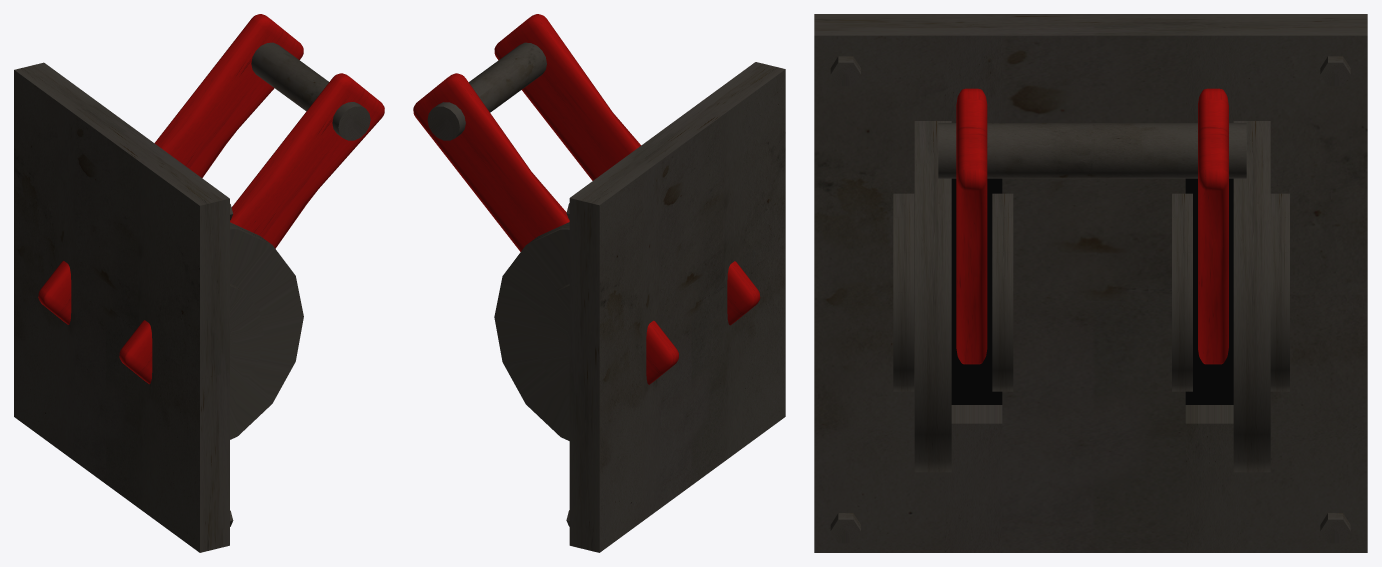
The model's file is lever_imported.FBX.
3 views of the same model, side by side, from view 1: azimuth 30°, elevation 25°; view 2: azimuth 150°, elevation 25°; view 3: azimuth 270°, elevation 25° (orthographic). The views are drawn at different scales.
Parts seen in each view (by area): view 1: Box002, ChamferBox003, ChamferBox002, Cylinder001, Cylinder003, Cylinder006; view 2: Box002, ChamferBox002, ChamferBox003, Cylinder002, Cylinder003, Cylinder007; view 3: Box002, Cylinder003, Cylinder001, Cylinder002, ChamferBox003, ChamferBox002, Cylinder004, Cylinder006, Cylinder005, Cylinder007, boulon (×2), boulon001 (+1 smaller).
Part boxes in pixels (bbox=[...]): Box002: bbox=[14, 62, 229, 552]; ChamferBox003: bbox=[119, 73, 384, 384]; ChamferBox002: bbox=[38, 14, 303, 324]; Cylinder001: bbox=[230, 222, 303, 439]; Cylinder003: bbox=[251, 42, 370, 140]; Cylinder006: bbox=[230, 284, 263, 397]; Box002: bbox=[569, 62, 785, 552]; ChamferBox002: bbox=[413, 73, 678, 384]; ChamferBox003: bbox=[494, 14, 760, 325]; Cylinder002: bbox=[494, 222, 569, 440]; Cylinder003: bbox=[427, 42, 546, 140]; Cylinder007: bbox=[535, 283, 569, 397]; Box002: bbox=[814, 14, 1367, 552]; Cylinder003: bbox=[938, 123, 1246, 178]; Cylinder001: bbox=[914, 121, 951, 472]; Cylinder002: bbox=[1233, 121, 1270, 472]; ChamferBox003: bbox=[956, 88, 987, 364]; ChamferBox002: bbox=[1198, 88, 1228, 364]; Cylinder004: bbox=[992, 193, 1013, 391]; Cylinder006: bbox=[893, 193, 914, 391]; Cylinder005: bbox=[1172, 193, 1192, 391]; Cylinder007: bbox=[1270, 193, 1289, 391]; boulon (×2): bbox=[830, 56, 1350, 86]; boulon001: bbox=[1320, 513, 1350, 543].
Bounding box in the file's own units: 15.02 × 21.59 × 18.59.
